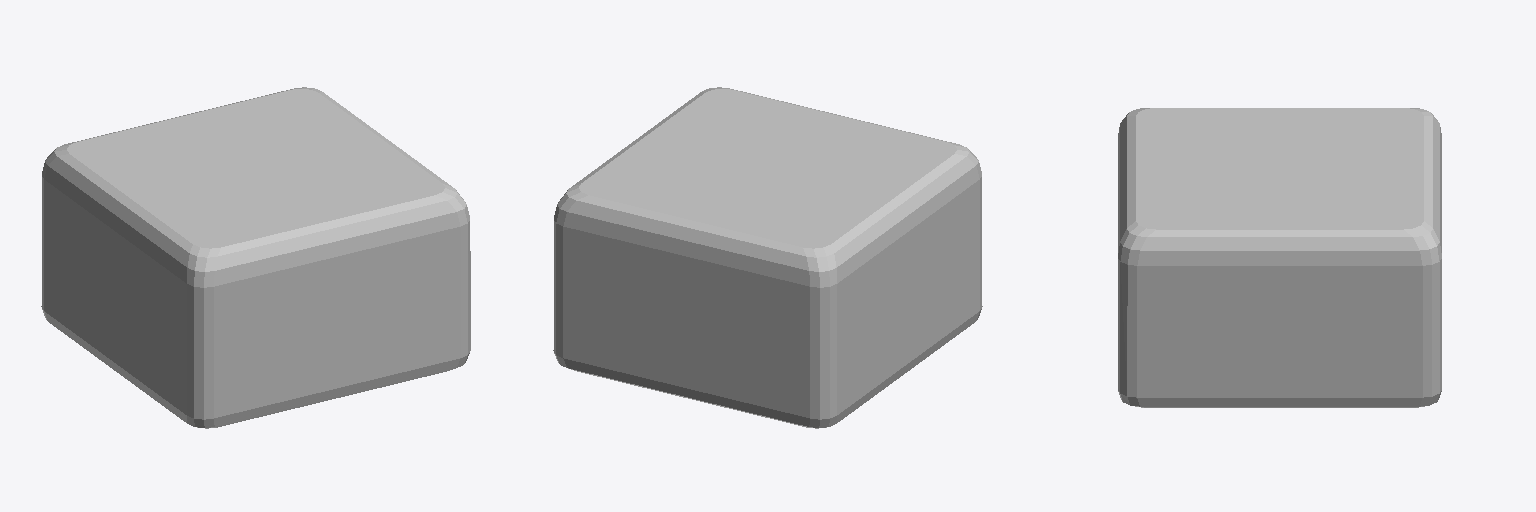
The model's file is tile_high.obj.
3 views of the same model, side by side, from view 1: azimuth 30°, elevation 25°; view 2: azimuth 150°, elevation 25°; view 3: azimuth 270°, elevation 25° (orthographic).
Visible parts, largest first — view 1: tile_high_Cube.018; view 2: tile_high_Cube.018; view 3: tile_high_Cube.018.
Part boxes in pixels (x1,y1,x2,y2): tile_high_Cube.018: (41,87,470,428); tile_high_Cube.018: (553,87,982,428); tile_high_Cube.018: (1118,108,1441,407).
Bounding box in the file's own units: 1.03 × 0.6103 × 1.03.